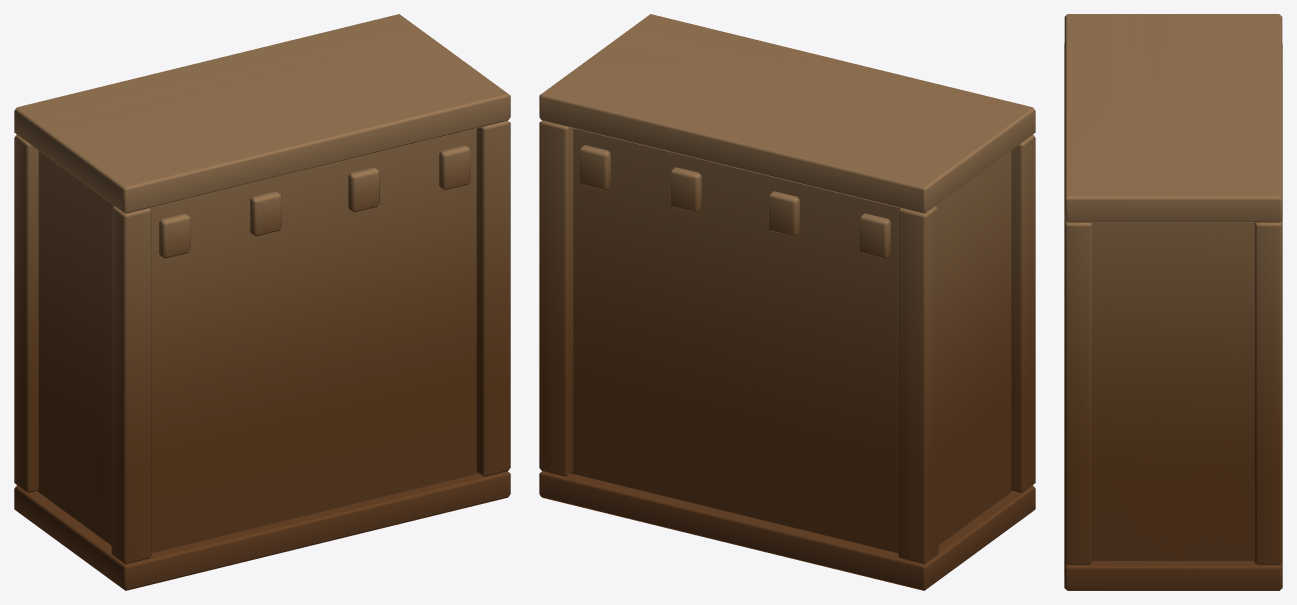
File: SM_Clay_Body_03.fbx
3 renders of one model, left to right at view 1: azimuth 30°, elevation 25°; view 2: azimuth 150°, elevation 25°; view 3: azimuth 270°, elevation 25°, orthographic. The views are drawn at different scales.
Visible parts, largest first — view 1: SM_Clay_Body_03; view 2: SM_Clay_Body_03; view 3: SM_Clay_Body_03.
Boxes of the visible parts, bbox=[...] form: SM_Clay_Body_03: bbox=[14, 14, 510, 590]; SM_Clay_Body_03: bbox=[539, 14, 1035, 590]; SM_Clay_Body_03: bbox=[1064, 14, 1282, 590].
Size of the model in its own units: 2 by 2 by 1.
